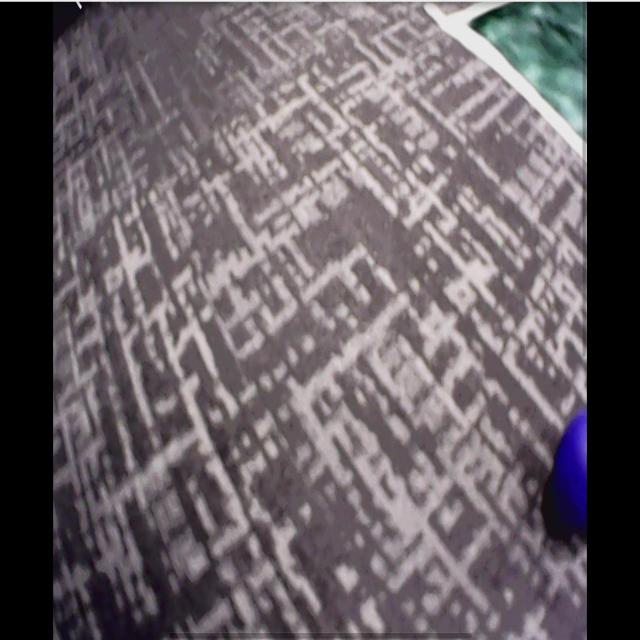ball: (560, 419, 589, 527)
